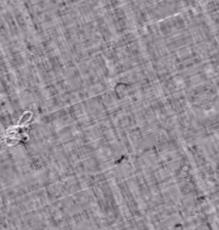snag: (3, 109, 41, 150)
